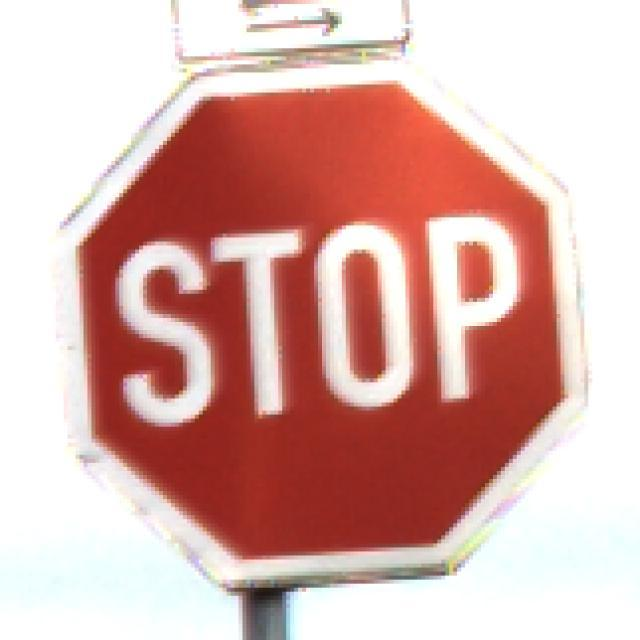stop: (72, 59, 581, 587)
